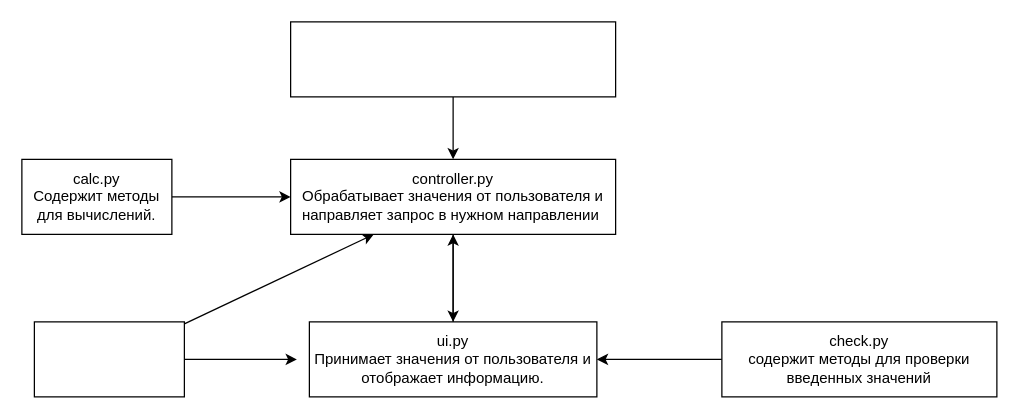
Some shapes in this 1019 by 419 pixel diagram are drawn without their labels. The shapes that lost their labels are listed below. From the top down, each one's centre as x and y in pixels, then its label:
At [452,59]: "main.py Файл запуска программы".
At [108,359]: "logger.py Ведет журнал запросов и выдает его.".
